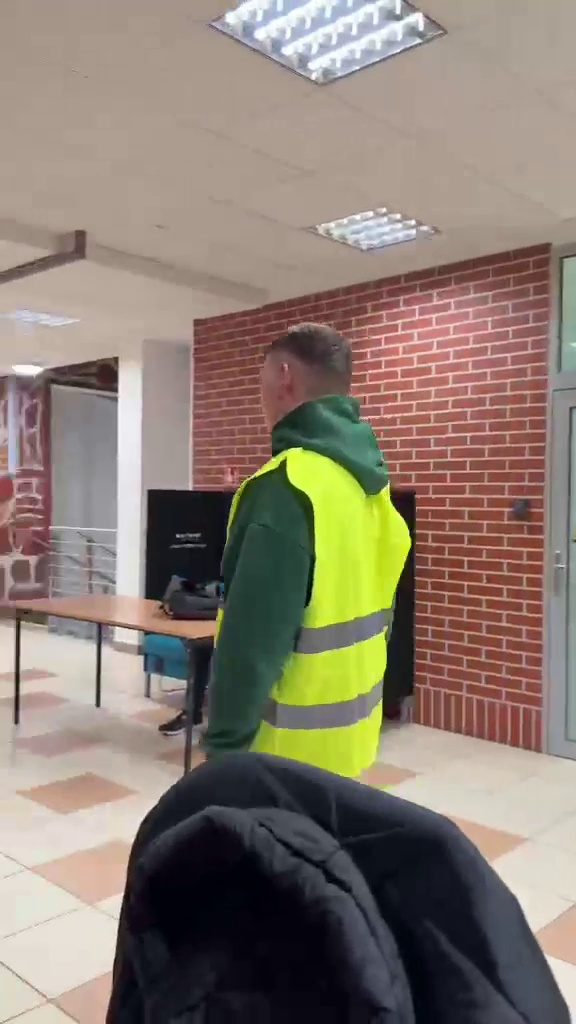vest: (216, 319, 414, 777)
